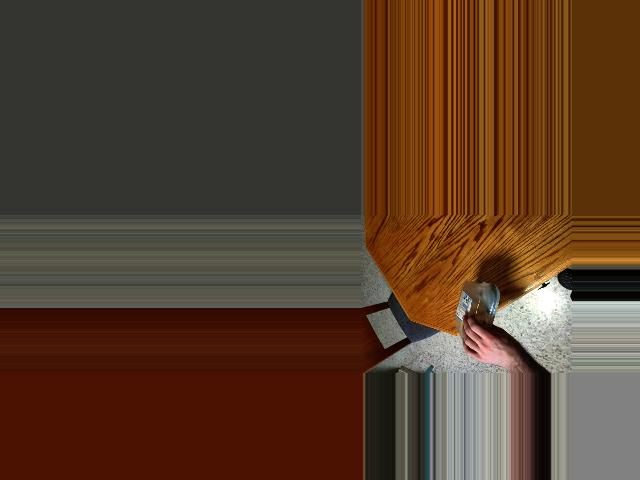cheese: (453, 293, 505, 356)
